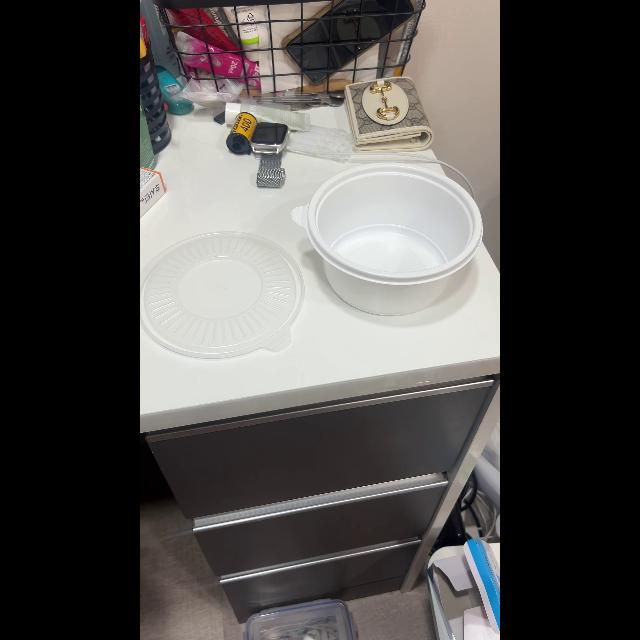clean: (313, 163, 489, 313), (142, 227, 306, 363)
